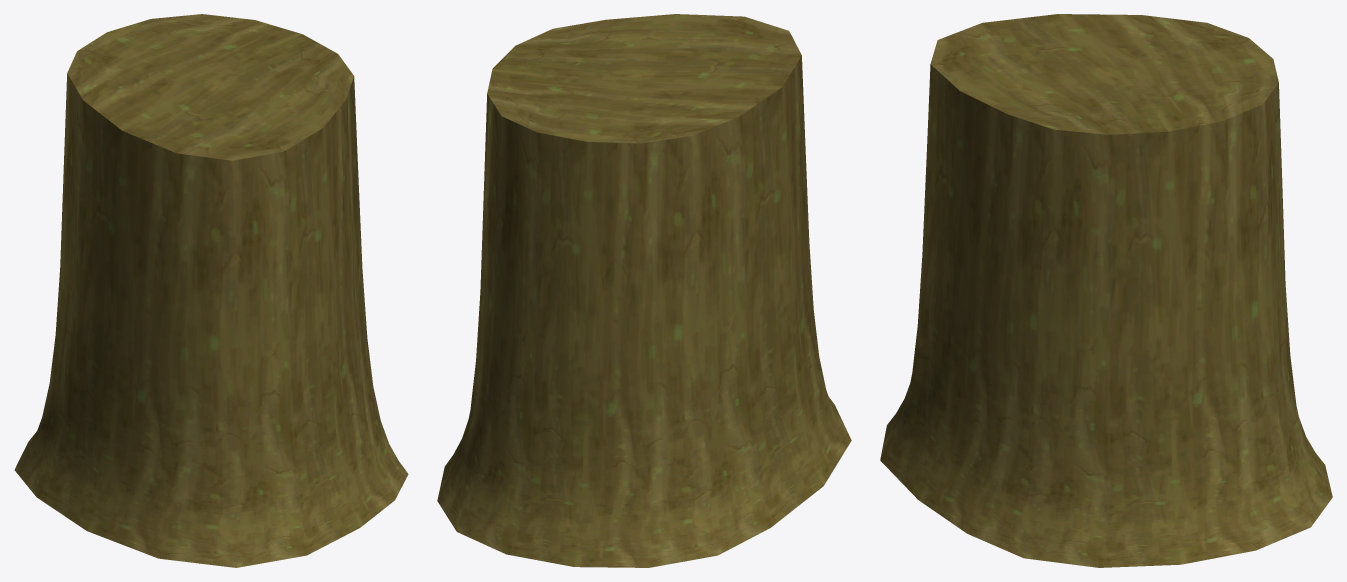
The model's file is MIRKWOOD_MIRK_PLAYSURFACE208.fbx.
The picture shows the model from 3 angles, left to right: view 1: azimuth 30°, elevation 25°; view 2: azimuth 150°, elevation 25°; view 3: azimuth 270°, elevation 25°; orthographic projection. The views are drawn at different scales.
Visible parts, largest first — view 1: MIRKWOOD_MIRK_PLAYSURFACE208; view 2: MIRKWOOD_MIRK_PLAYSURFACE208; view 3: MIRKWOOD_MIRK_PLAYSURFACE208.
Part boxes in pixels (<box>): MIRKWOOD_MIRK_PLAYSURFACE208: <box>14,14,408,567</box>; MIRKWOOD_MIRK_PLAYSURFACE208: <box>437,14,851,567</box>; MIRKWOOD_MIRK_PLAYSURFACE208: <box>880,14,1332,567</box>.
Size of the model in its own units: 64541 by 76670 by 76225.
1 material, 1 textured.
